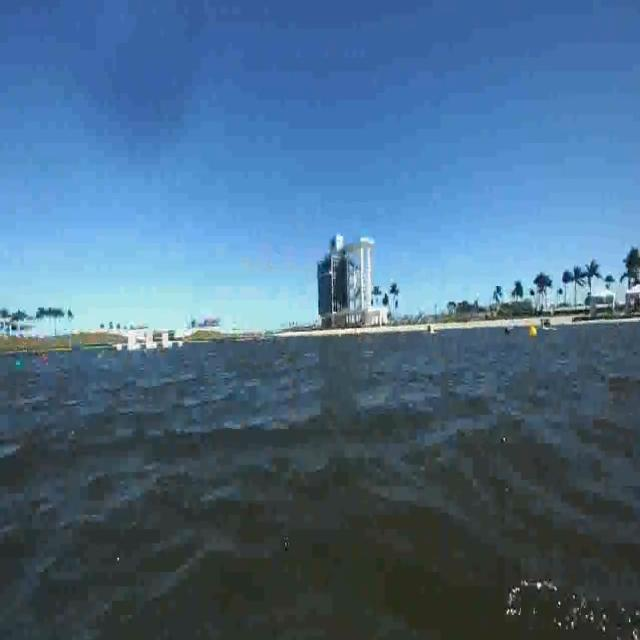yellow-buoy: (530, 324, 538, 338)
